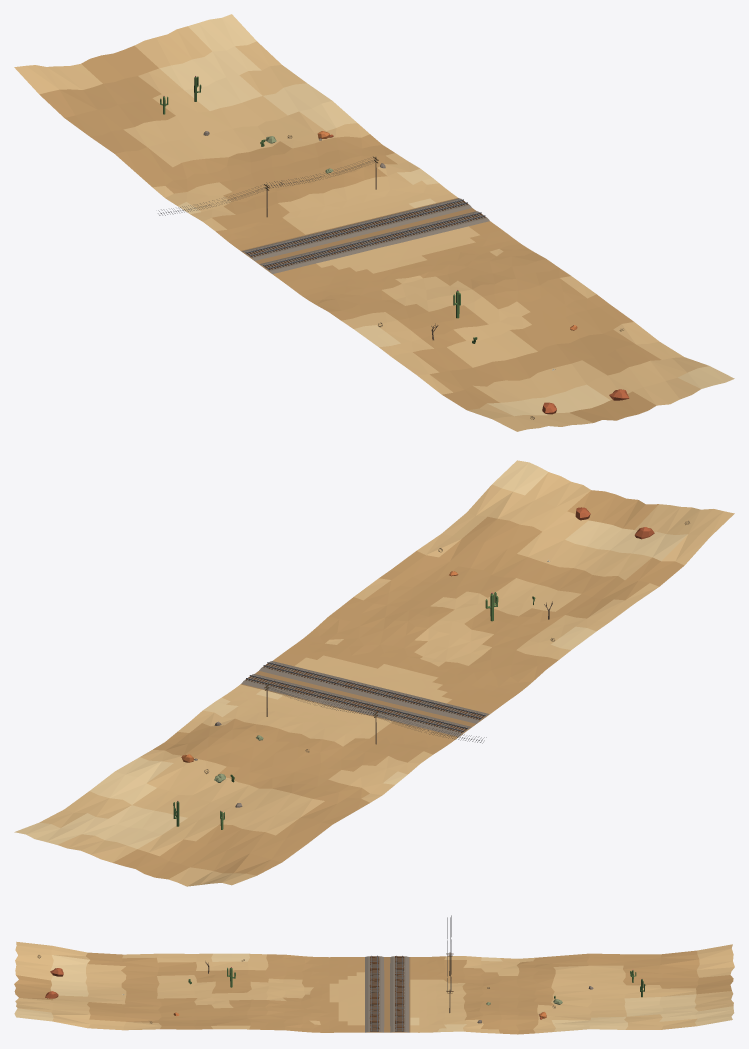
Rendered from SM_FG_Chunk_SideTrack_Mid_A.fbx.
The picture shows the model from 3 angles, top to bottom: view 1: azimuth 30°, elevation 25°; view 2: azimuth 150°, elevation 25°; view 3: azimuth 270°, elevation 25°; orthographic projection. The views are drawn at different scales.
Visible parts, largest first — view 1: FG_Chunk_SideTrack_Mid_A_Track; view 2: FG_Chunk_SideTrack_Mid_A_Track; view 3: FG_Chunk_SideTrack_Mid_A_Track.
Part boxes in pixels (left/top/right/bottom): FG_Chunk_SideTrack_Mid_A_Track: left=14, top=14, right=734, bottom=431; FG_Chunk_SideTrack_Mid_A_Track: left=14, top=460, right=734, bottom=886; FG_Chunk_SideTrack_Mid_A_Track: left=14, top=915, right=734, bottom=1034.
Size of the model in its own units: 6250 by 800 by 20122.
